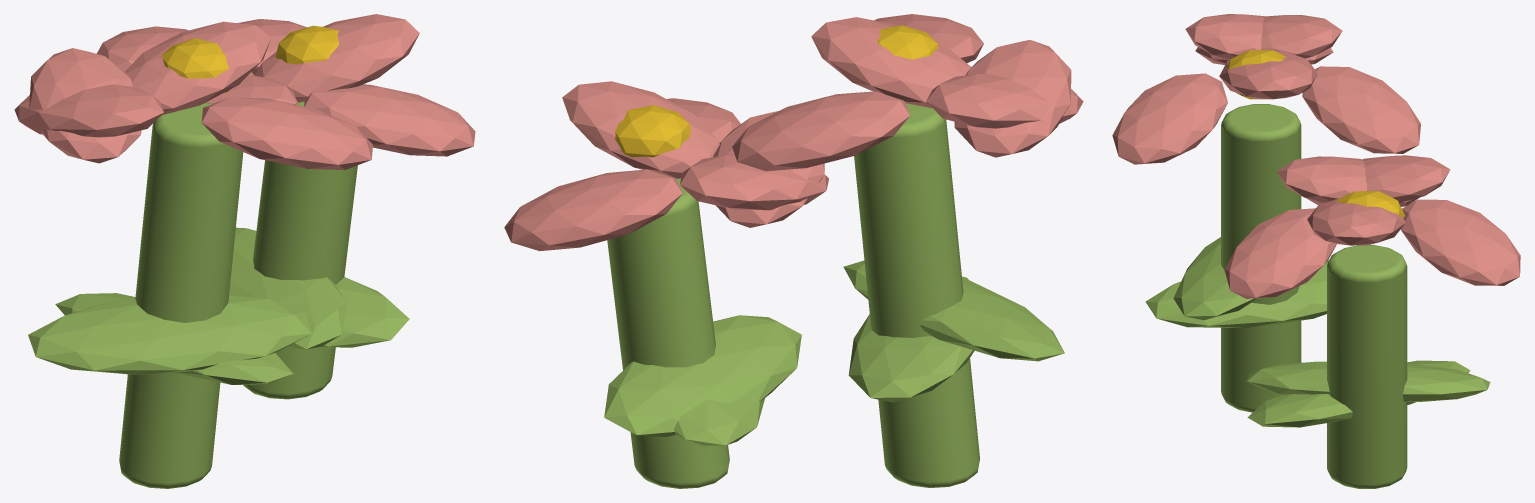
File: prop_flowers_pink.glb
3 views of the same model, side by side, from view 1: azimuth 30°, elevation 25°; view 2: azimuth 150°, elevation 25°; view 3: azimuth 270°, elevation 25° (orthographic). The views are drawn at different scales.
Parts seen in each view (by area): view 1: fpk_stem, fpk_leaf0, fpk2_stem, fpk_petal2, fpk2_petal2, fpk2_petal0, fpk_petal0, fpk_petal1, fpk_petal4, fpk2_leaf1, fpk2_leaf0, fpk_leaf1 (+5 smaller); view 2: fpk_stem, fpk2_stem, fpk2_leaf1, fpk2_petal3, fpk_petal3, fpk_petal0, fpk_leaf0, fpk2_petal0, fpk_petal4, fpk_leaf1, fpk2_petal1, fpk_petal1 (+6 smaller); view 3: fpk2_stem, fpk_stem, fpk_petal2, fpk2_petal3, fpk_petal3, fpk2_petal2, fpk2_leaf1, fpk_leaf1, fpk_leaf0, fpk2_petal0, fpk2_petal4, fpk_petal0 (+6 smaller).
Boxes of the visible parts, x1,y1,x2,y2 form: fpk_stem: [119, 103, 243, 488]; fpk_leaf0: [28, 295, 311, 375]; fpk2_stem: [243, 101, 357, 399]; fpk_petal2: [201, 97, 372, 169]; fpk2_petal2: [304, 84, 475, 156]; fpk2_petal0: [255, 14, 419, 102]; fpk_petal0: [124, 21, 270, 114]; fpk_petal1: [29, 48, 141, 163]; fpk_petal4: [14, 84, 163, 137]; fpk2_leaf1: [229, 227, 347, 349]; fpk2_leaf0: [320, 277, 409, 347]; fpk_leaf1: [55, 293, 293, 384]; fpk_stem: [854, 103, 979, 487]; fpk2_stem: [607, 178, 729, 488]; fpk2_leaf1: [604, 315, 801, 436]; fpk2_petal3: [504, 169, 682, 251]; fpk_petal3: [732, 91, 909, 171]; fpk_petal0: [811, 17, 971, 108]; fpk_leaf0: [843, 260, 1064, 361]; fpk2_petal0: [562, 81, 719, 178]; fpk_petal4: [954, 40, 1071, 157]; fpk_leaf1: [848, 276, 974, 402]; fpk2_petal1: [680, 154, 828, 210]; fpk_petal1: [926, 73, 1083, 128]; fpk2_stem: [1327, 245, 1407, 488]; fpk_stem: [1221, 104, 1301, 412]; fpk_petal2: [1112, 73, 1227, 164]; fpk2_petal3: [1401, 199, 1520, 285]; fpk_petal3: [1302, 66, 1420, 153]; fpk2_petal2: [1224, 208, 1336, 298]; fpk2_leaf1: [1247, 361, 1490, 401]; fpk_leaf1: [1145, 260, 1328, 328]; fpk_leaf0: [1173, 237, 1257, 320]; fpk2_petal0: [1307, 198, 1405, 245]; fpk2_petal4: [1277, 156, 1419, 206]; fpk_petal0: [1219, 50, 1317, 99].
Size of the model in its own units: 0.4081 by 0.3752 by 0.3856.
